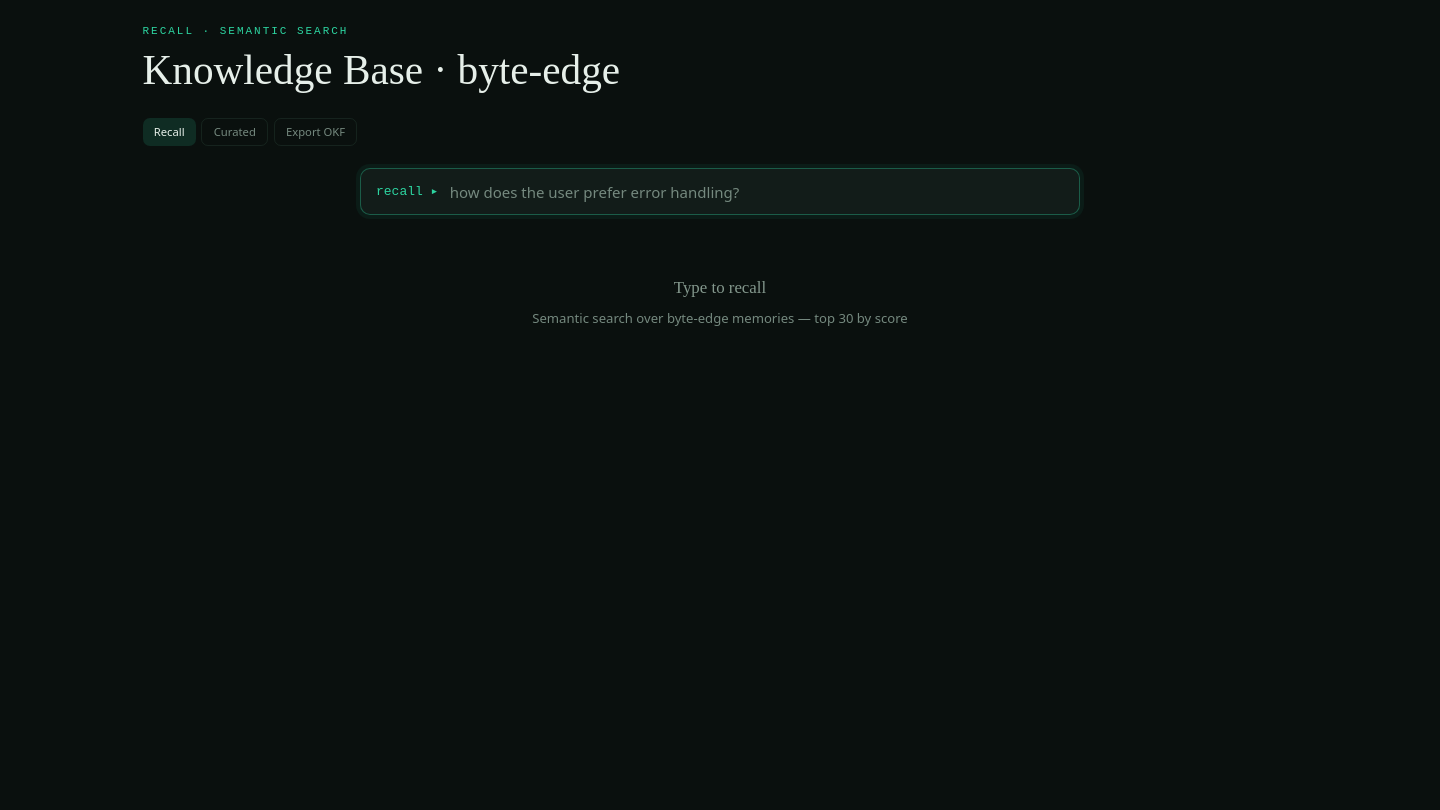
KB recall workbench › count line reflects facet filters honestly
Type "error handling" into the field named "recall query" at (757, 192), box [450,181,1064,203]
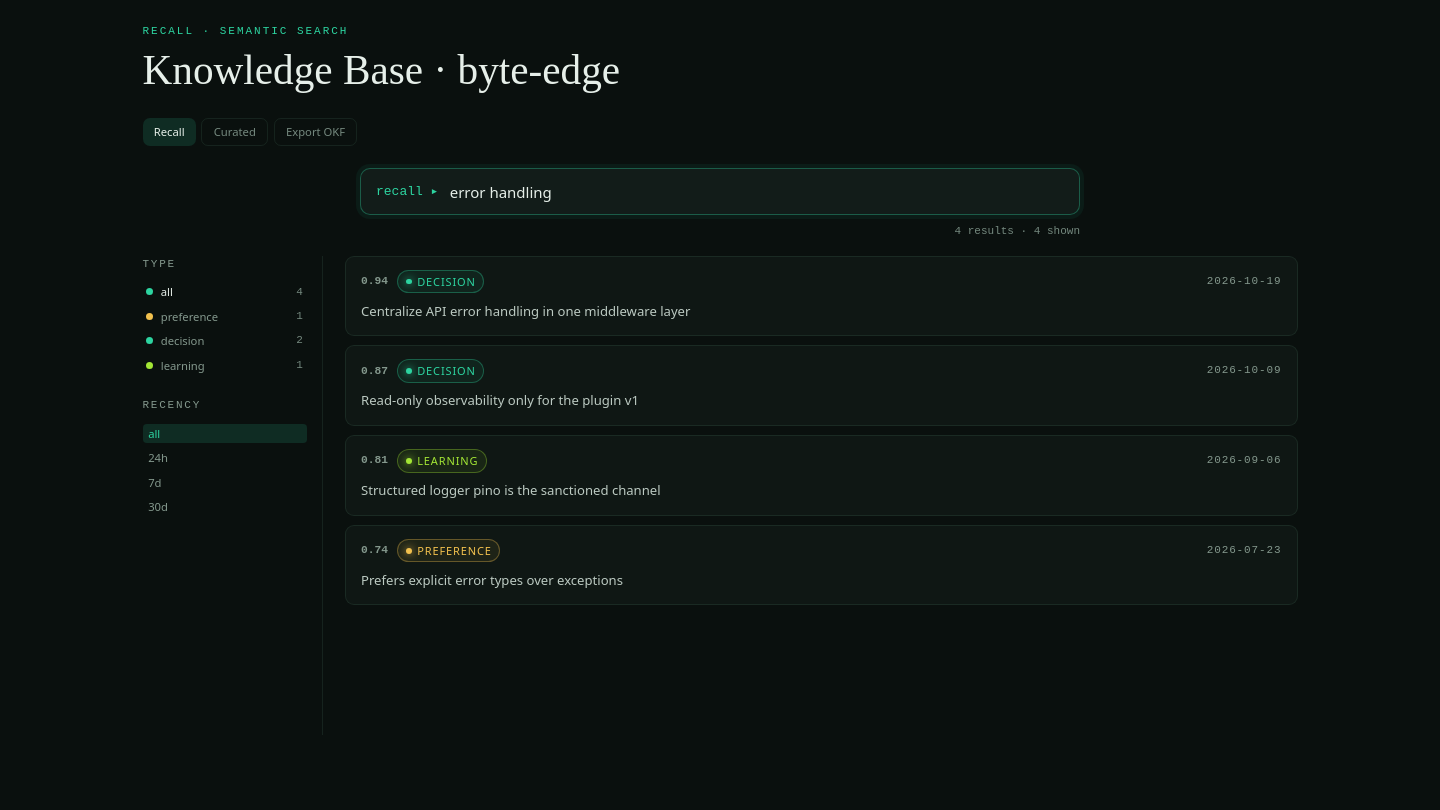
Expected: the text "Centralize API error handling in one middleware layer" is shown, [361,302,690,320]
Expected: the text "4 results · 4 shown" is shown, [954,225,1080,237]
Click the button "decision 2" at (224, 341), box [142,331,306,350]
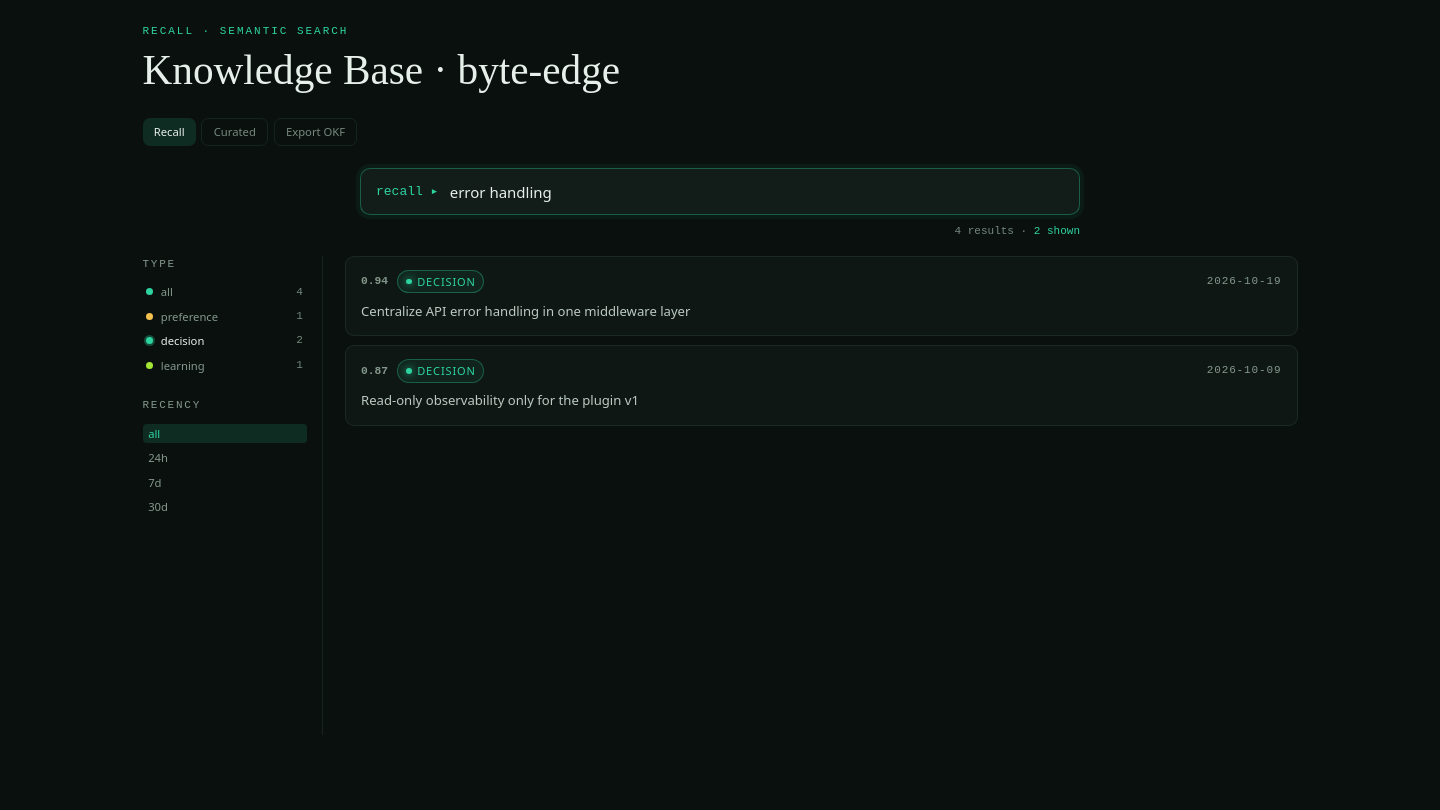
Expected: the text "4 results · 2 shown" is shown, [954,225,1080,237]
